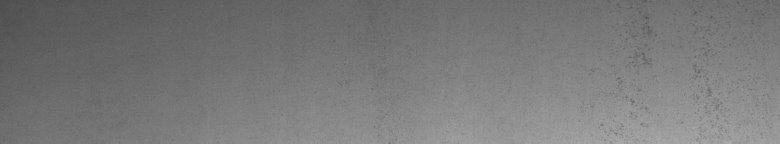ib: (601, 11, 723, 132)
